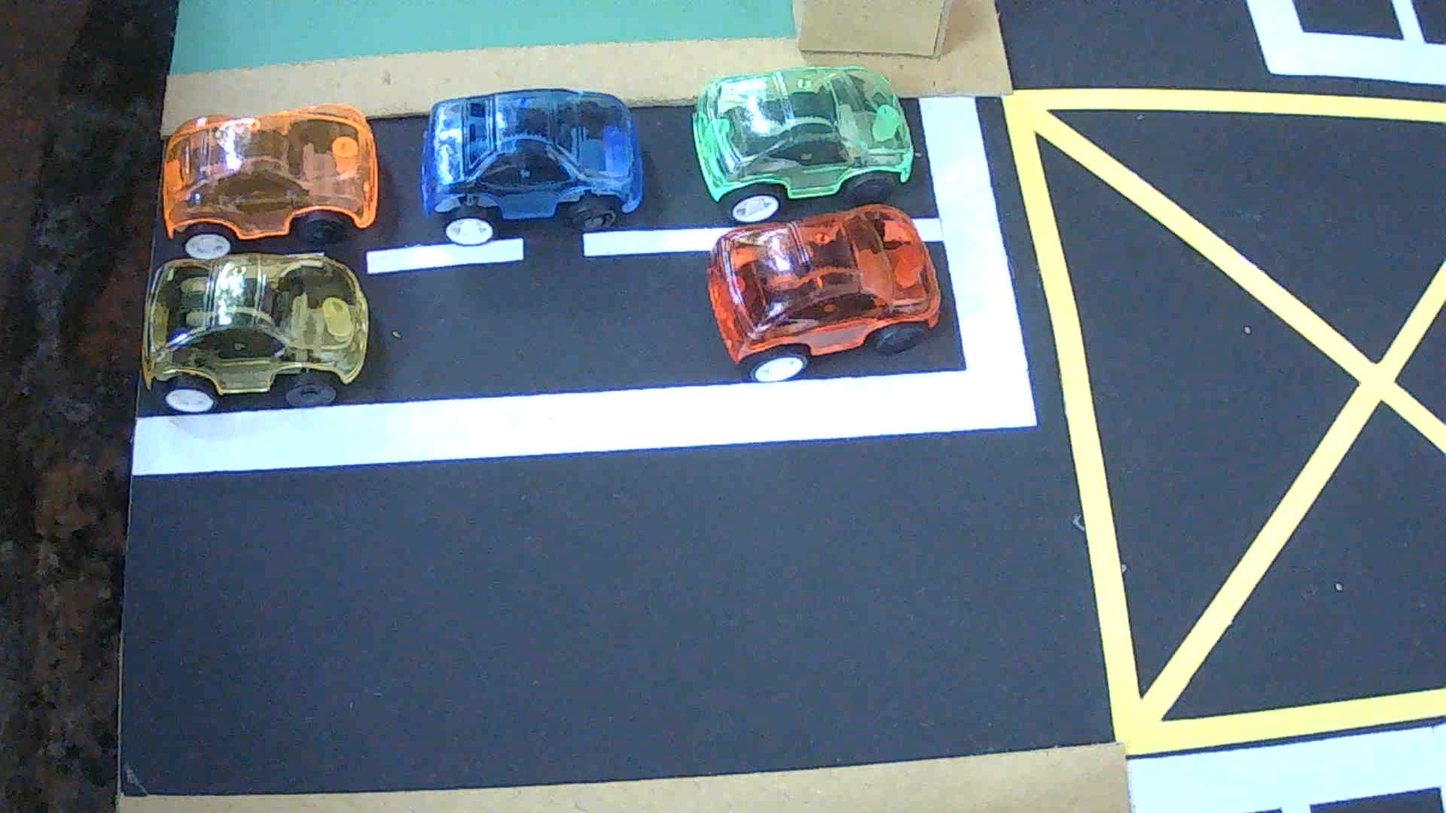Mobil biru: (419, 89, 642, 245)
Mobil hijau: (692, 67, 913, 224)
Mobil kuning: (141, 253, 369, 413)
Mobil merah: (707, 204, 941, 382)
Mobil orange: (161, 105, 379, 258)
